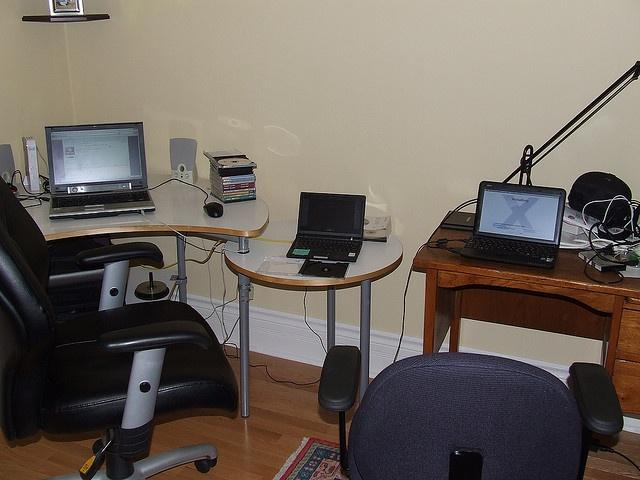Kursi: (0, 171, 239, 478), (318, 344, 626, 479)
Meja: (411, 209, 639, 420)
